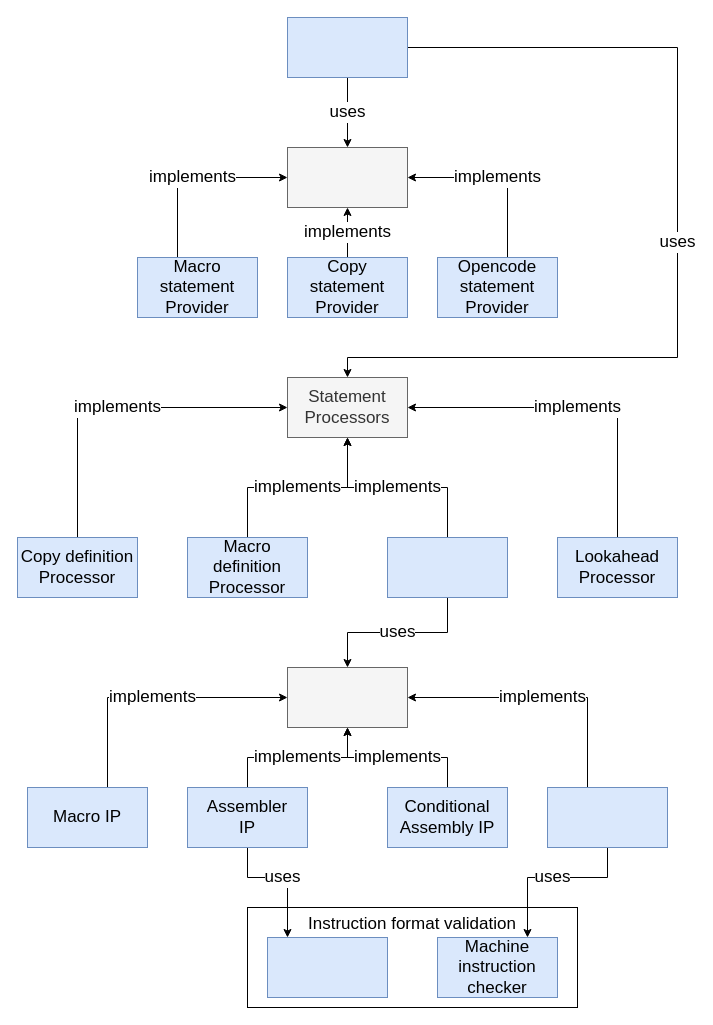
This 713x1025 diagram has some shape labels left out. The box of each missing label's shape, as (x1, y1, x2, y2) in pixels:
Assembler instruction checker: (266, 936, 388, 998)
Instruction Processors: (286, 666, 408, 728)
Machine IP: (546, 786, 668, 848)
Opencode Processor: (386, 536, 508, 598)
Processing Manager: (286, 16, 408, 78)
Statement Provider: (286, 146, 408, 208)
